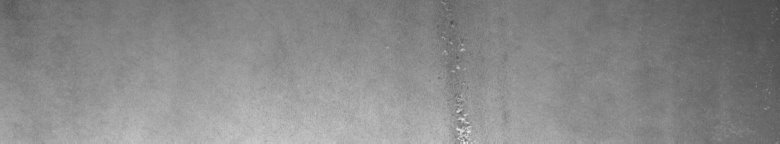hc: (437, 14, 507, 136)
